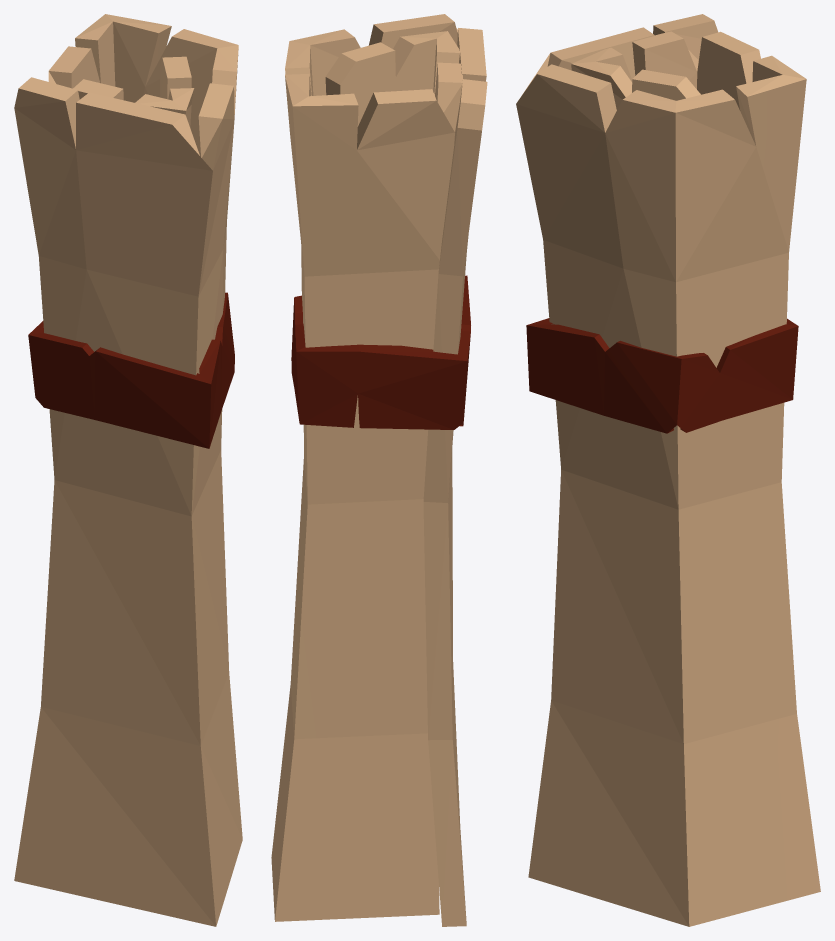
The model's file is Parchement_01.glb.
The picture shows the model from 3 angles, left to right: view 1: azimuth 30°, elevation 25°; view 2: azimuth 150°, elevation 25°; view 3: azimuth 270°, elevation 25°; orthographic projection.
Visible parts, largest first — view 1: Parchement_01; view 2: Parchement_01; view 3: Parchement_01.
Part boxes in pixels (x1,y1,x2,y2): Parchement_01: (14,14,242,926); Parchement_01: (271,14,487,926); Parchement_01: (516,14,820,926).
Size of what is drawn, in the model's own units: 0.1287 by 0.457 by 0.1546.
1 material, 1 textured.
